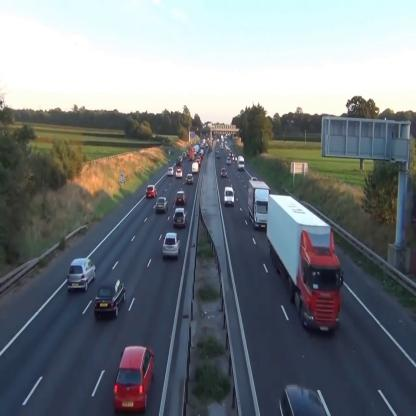car: (114, 342, 154, 416), (94, 280, 126, 317), (67, 258, 96, 290), (162, 232, 181, 258), (173, 207, 187, 229), (156, 197, 168, 212), (175, 191, 186, 205), (146, 184, 157, 197), (186, 174, 194, 183), (167, 166, 174, 175), (192, 163, 198, 172), (221, 167, 227, 176), (176, 169, 182, 177)
lorry: (267, 190, 344, 336), (248, 178, 270, 230), (224, 185, 234, 207), (238, 155, 245, 170)
